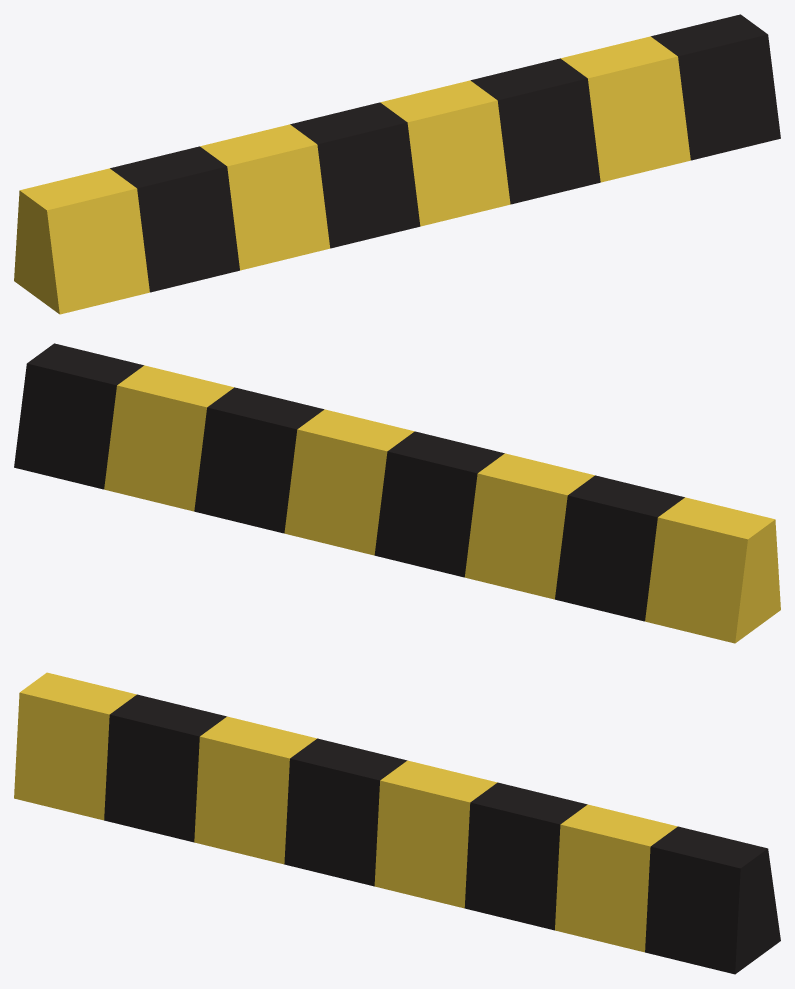
The model's file is blockade4.fbx.
The picture shows the model from 3 angles, top to bottom: view 1: azimuth 30°, elevation 25°; view 2: azimuth 150°, elevation 25°; view 3: azimuth 330°, elevation 25°; orthographic projection.
Parts seen in each view (by area): view 1: blockade4; view 2: blockade4; view 3: blockade4.
Part boxes in pixels (left/top/right/bottom): blockade4: left=14, top=14, right=780, bottom=314; blockade4: left=14, top=343, right=780, bottom=643; blockade4: left=14, top=672, right=780, bottom=974.
Bounding box in the file's own units: 402 × 52.13 × 44.02.
